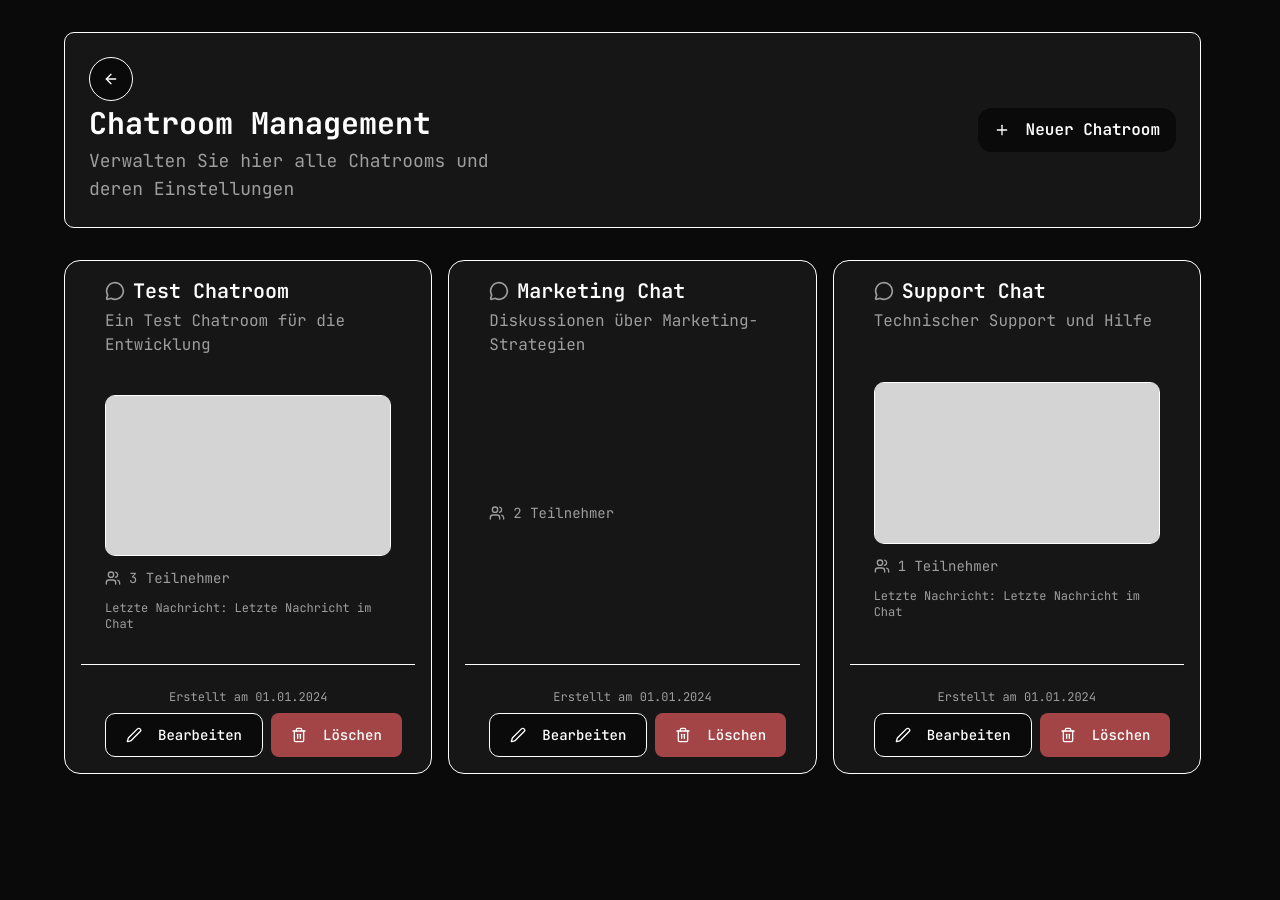
Scenario: ChatroomManagement › Edit Chatroom Dialog › sollte Edit Dialog öffnen mit vorausgefüllten Daten
Expected: the text "Test Chatroom" is shown, 105,278 -> 289,304
Click the 1st button "Bearbeiten": (184, 734) 105,712 -> 263,756
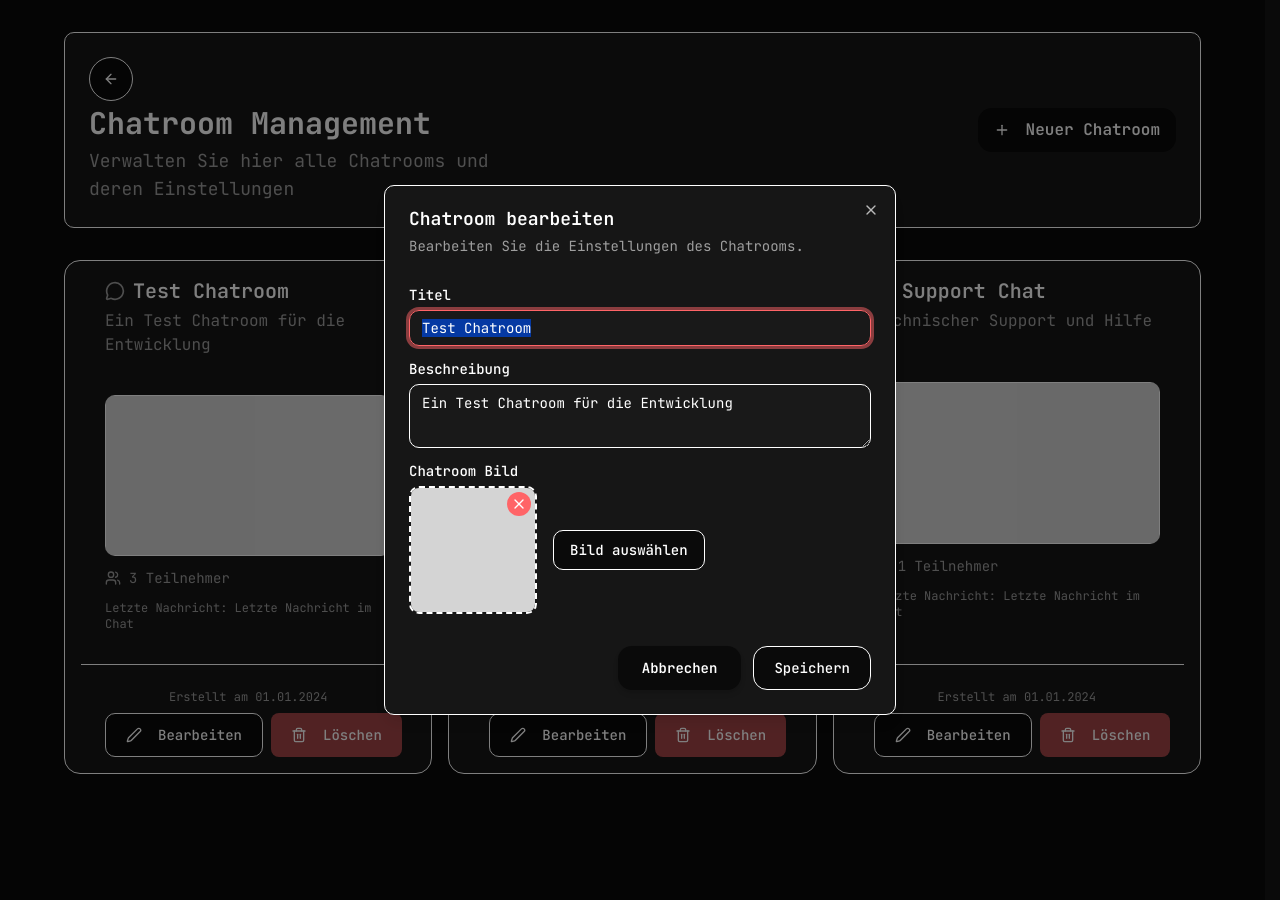
Now the heading "Chatroom bearbeiten" is shown, box 409,207 -> 614,230
Now the field showing "Test Chatroom" is shown, box 409,310 -> 871,346
Now the text box showing "Ein Test Chatroom für die Entwicklung" is shown, box 409,384 -> 871,448
